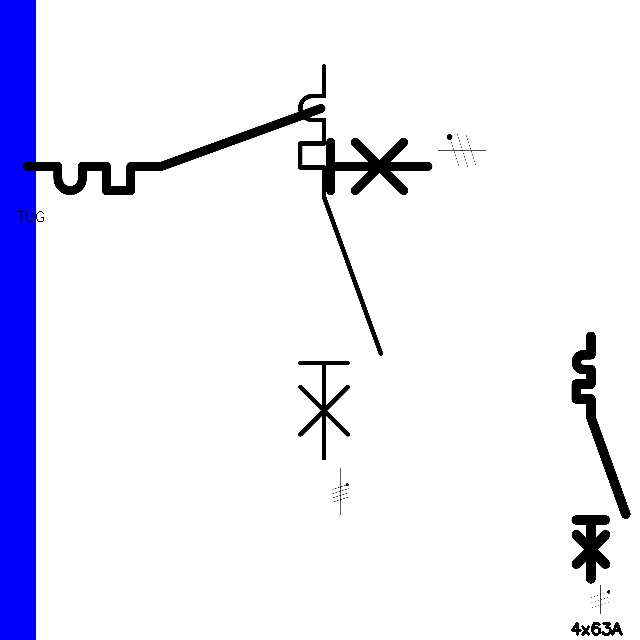interruptor_termomagnetico: (17, 98, 438, 201), (290, 56, 391, 468), (570, 330, 632, 585)
